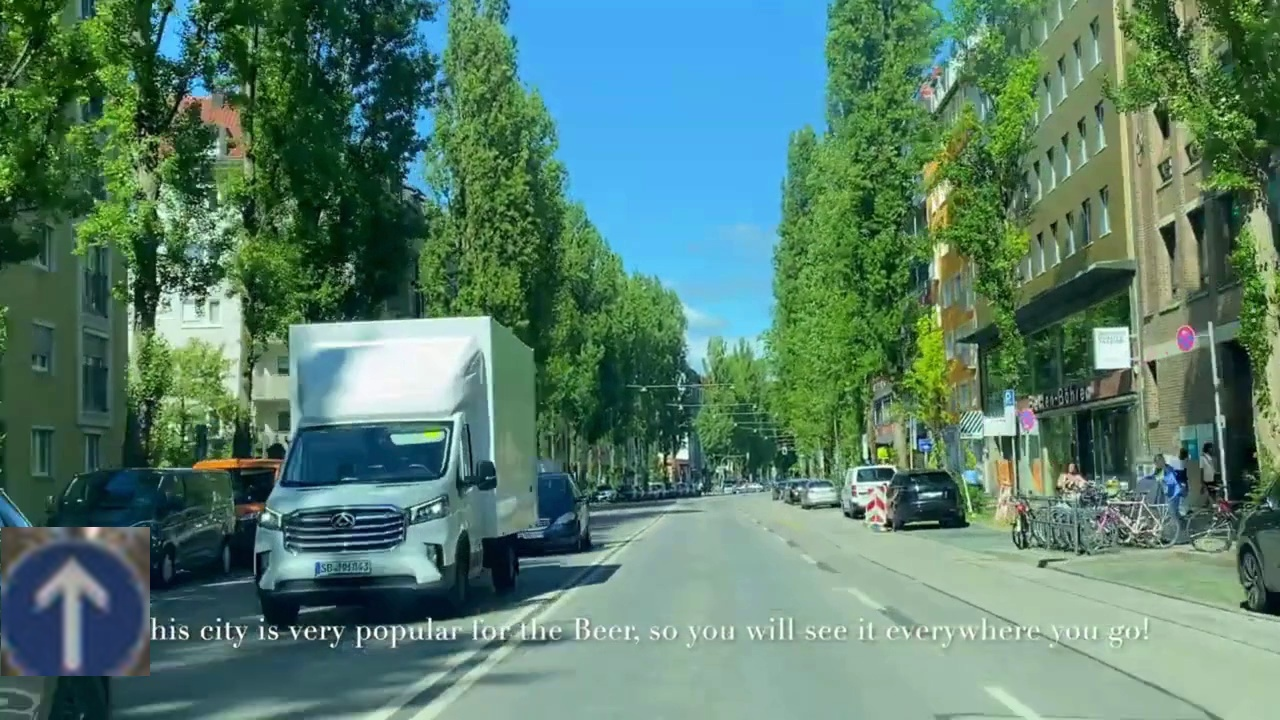Ahead only: (1, 527, 150, 676)
